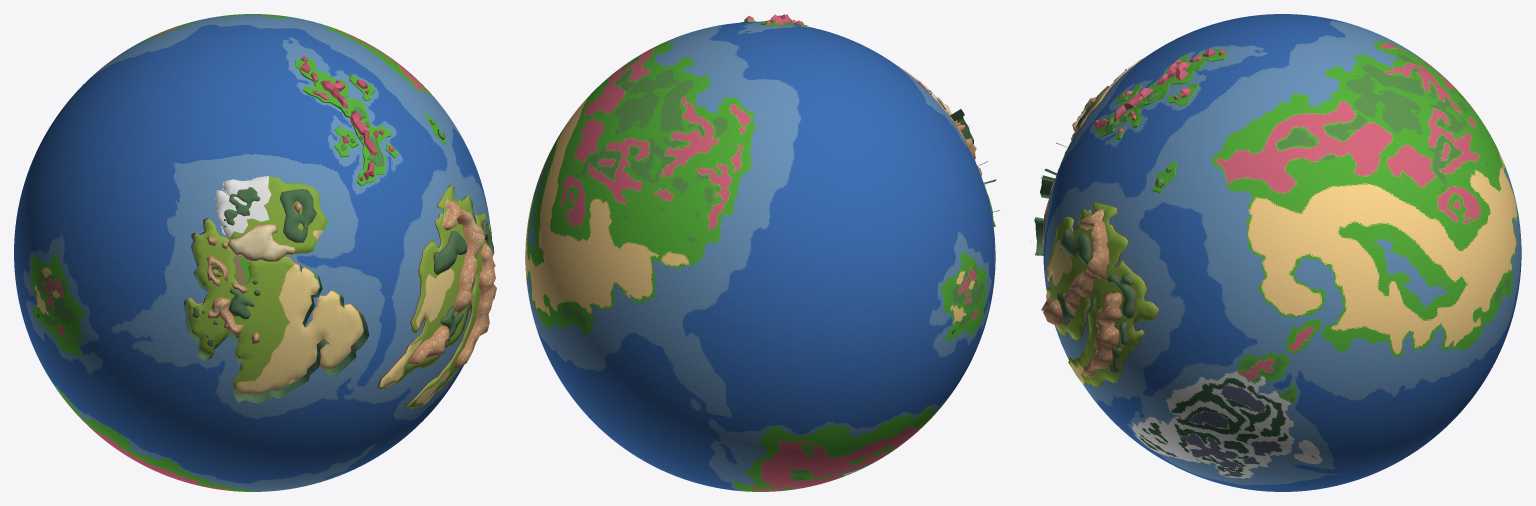
Rendered from midgard.glb.
3 renders of one model, left to right at view 1: azimuth 30°, elevation 25°; view 2: azimuth 150°, elevation 25°; view 3: azimuth 270°, elevation 25°, orthographic.
Parts seen in each view (by area): view 1: Water, FierroHavoc, Ardmore, Ardmore.Mountain, Aleko, Yamashiru.Island, FierroHavoc.001, Aleko.Forests, Aleko.Mountains, Ardmore.Forest, Fierro.Mountains, Fierro.Mountains.002; view 2: Water; view 3: Water, Ardmore, Ardmore.Mountain, Yamashiru.Island, Ardmore.Forest.002, Ardmore.Forest, FierroHavoc.001.
Boxes of the visible parts, <box> form: Water: <box>14,14,490,491</box>; FierroHavoc: <box>186,218,363,395</box>; Ardmore: <box>377,185,491,408</box>; Ardmore.Mountain: <box>408,198,496,368</box>; Aleko: <box>215,176,327,254</box>; Yamashiru.Island: <box>295,56,391,185</box>; FierroHavoc.001: <box>184,218,369,403</box>; Aleko.Forests: <box>224,187,316,242</box>; Aleko.Mountains: <box>228,223,295,261</box>; Ardmore.Forest: <box>433,231,467,274</box>; Fierro.Mountains: <box>208,297,259,344</box>; Fierro.Mountains.002: <box>207,235,247,293</box>; Water: <box>525,21,995,491</box>; Water: <box>1043,14,1521,491</box>; Ardmore: <box>1046,202,1158,387</box>; Ardmore.Mountain: <box>1041,209,1121,376</box>; Yamashiru.Island: <box>1093,48,1227,137</box>; Ardmore.Forest.002: <box>1106,274,1136,374</box>; Ardmore.Forest: <box>1060,228,1091,265</box>; FierroHavoc.001: <box>1031,69,1126,255</box>.
Bounding box in the file's own units: 2 × 2 × 2.06.
9 materials, 9 textured.
